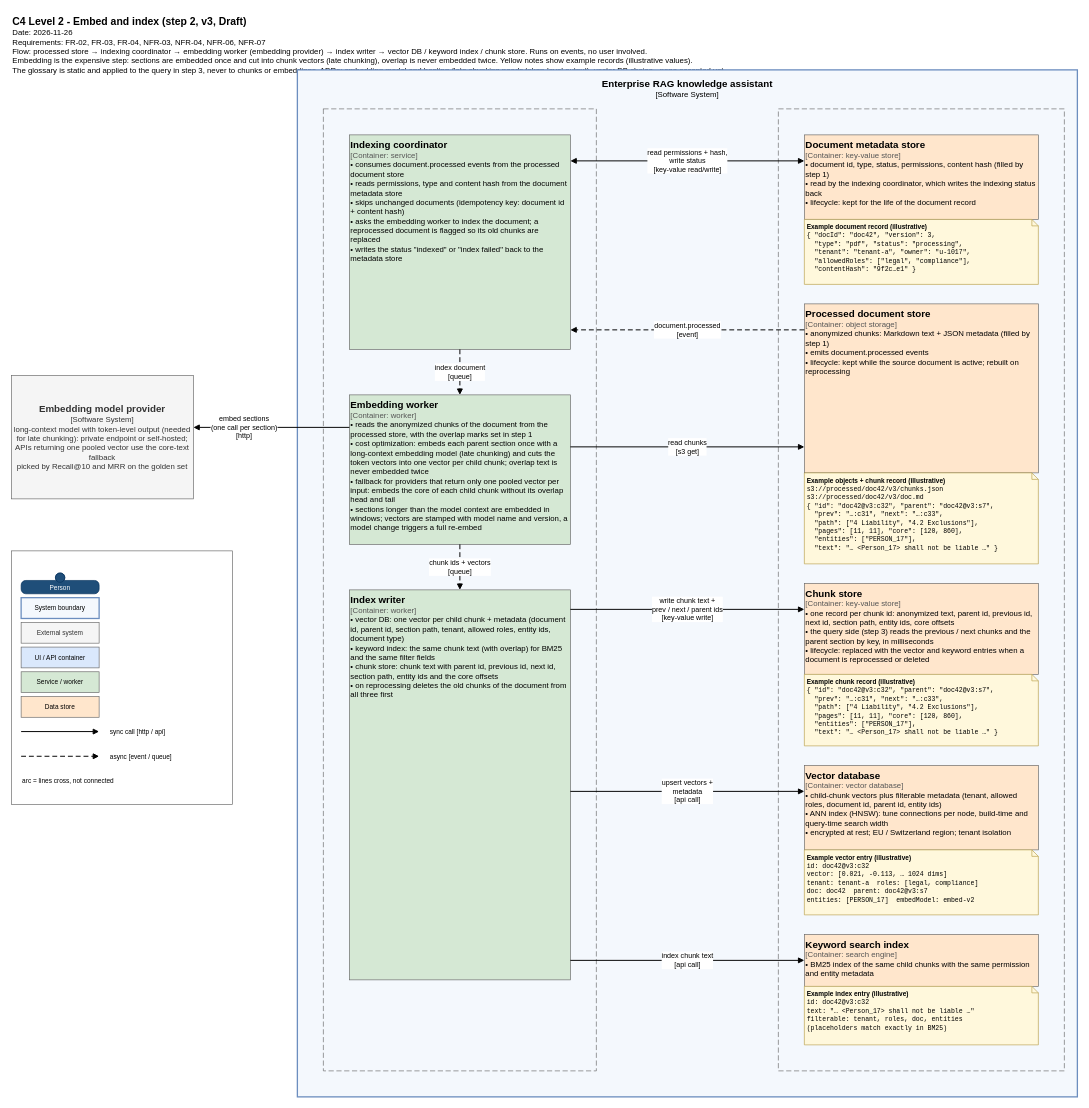
Some shapes in this 1089 by 1108 pixel diagram are drawn without their labels. The shapes that lost their labels are listed below. From the top down, each one's box as (x1, y1, x2, y2) in pixels, then its label:
(323, 108, 596, 1071): Backend
(778, 108, 1064, 1071): Repositories (DBs)
(11, 550, 232, 804): Legend
